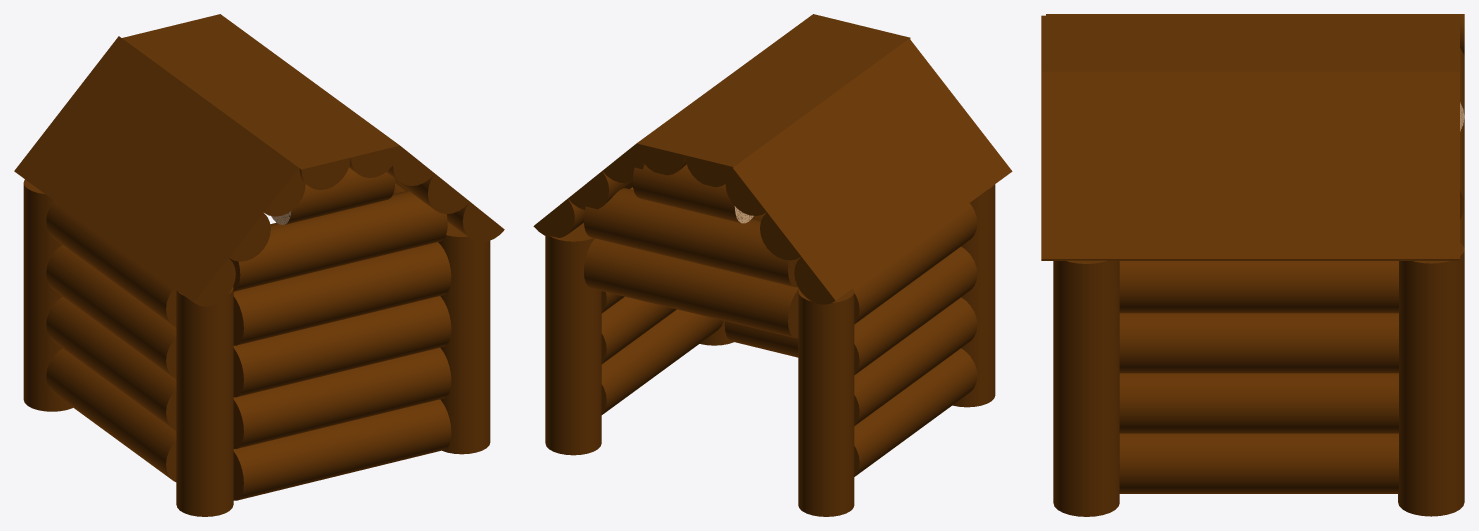
The model's file is home.dae.
The picture shows the model from 3 angles, left to right: view 1: azimuth 30°, elevation 25°; view 2: azimuth 150°, elevation 25°; view 3: azimuth 270°, elevation 25°; orthographic projection. The views are drawn at different scales.
Parts seen in each view (by area): view 1: SketchUp (×2); view 2: SketchUp (×2); view 3: SketchUp (×2).
Boxes of the visible parts, box(x1,y1,x2,y2) form: SketchUp (×2): box(14, 14, 504, 516); SketchUp (×2): box(533, 14, 1012, 516); SketchUp (×2): box(1041, 14, 1464, 516).
Size of the model in its own units: 75.57 by 76.4 by 77.41.
